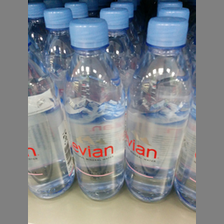water: (124, 14, 192, 203), (62, 17, 125, 201)
